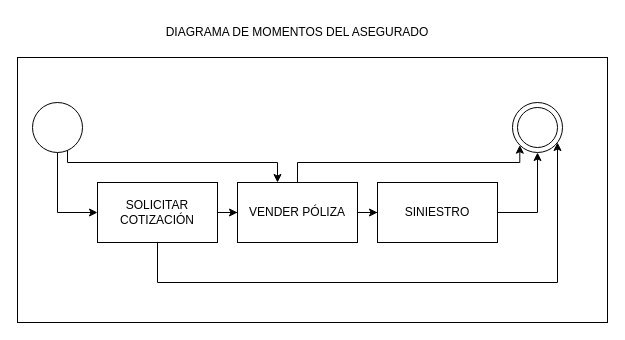
Some shapes in this 625 by 340 pixel diagram are drawn without their labels. The shapes that lost their labels are listed below. From the top down, each one's centre as x and y in pixels, then its label:
point 57,127: INICIO
point 537,127: FIN
